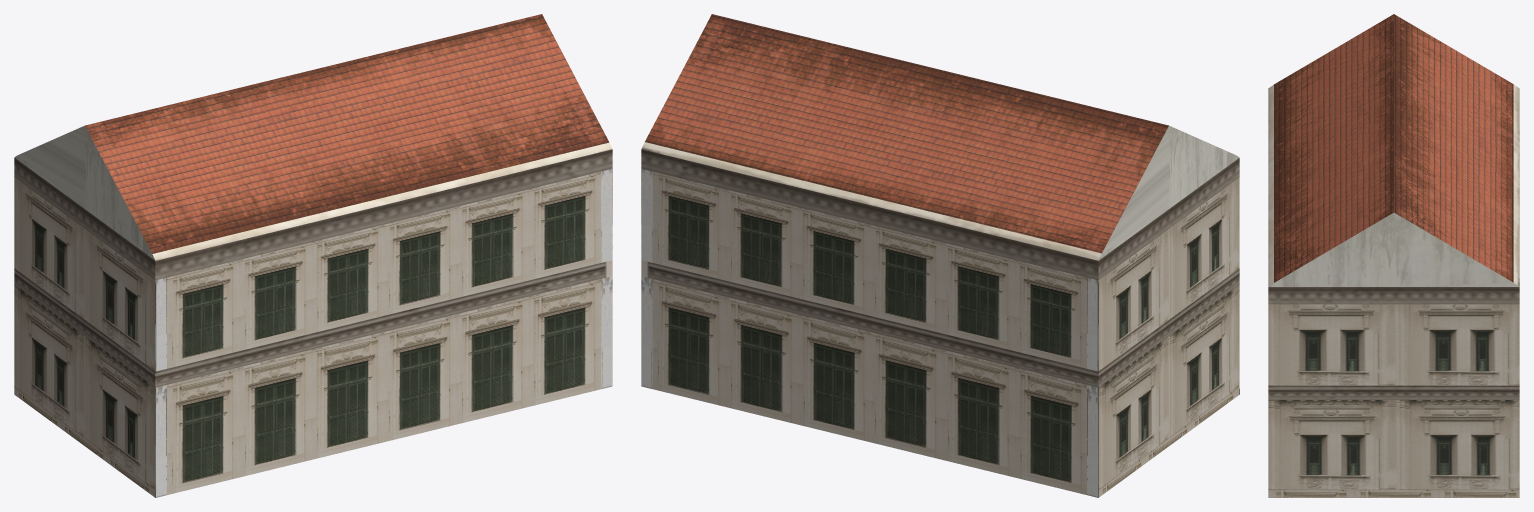
File: SM_Building_Rich_01.fbx
3 views of the same model, side by side, from view 1: azimuth 30°, elevation 25°; view 2: azimuth 150°, elevation 25°; view 3: azimuth 270°, elevation 25° (orthographic). The views are drawn at different scales.
Visible parts, largest first — view 1: SM_Building_Rich_01; view 2: SM_Building_Rich_01; view 3: SM_Building_Rich_01.
Part boxes in pixels (<box>): SM_Building_Rich_01: <box>14,14,612,497</box>; SM_Building_Rich_01: <box>641,14,1239,497</box>; SM_Building_Rich_01: <box>1268,14,1519,497</box>.
Size of the model in its own units: 20.23 by 13.56 by 10.82.
